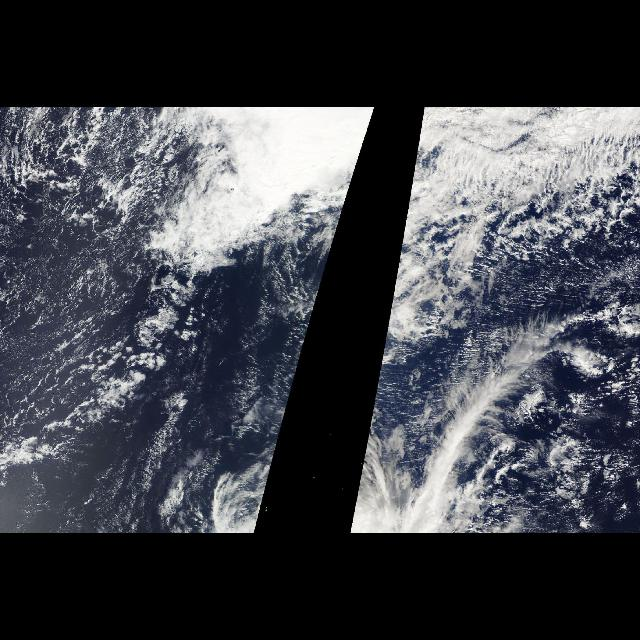Gravel: (1, 114, 160, 400)
